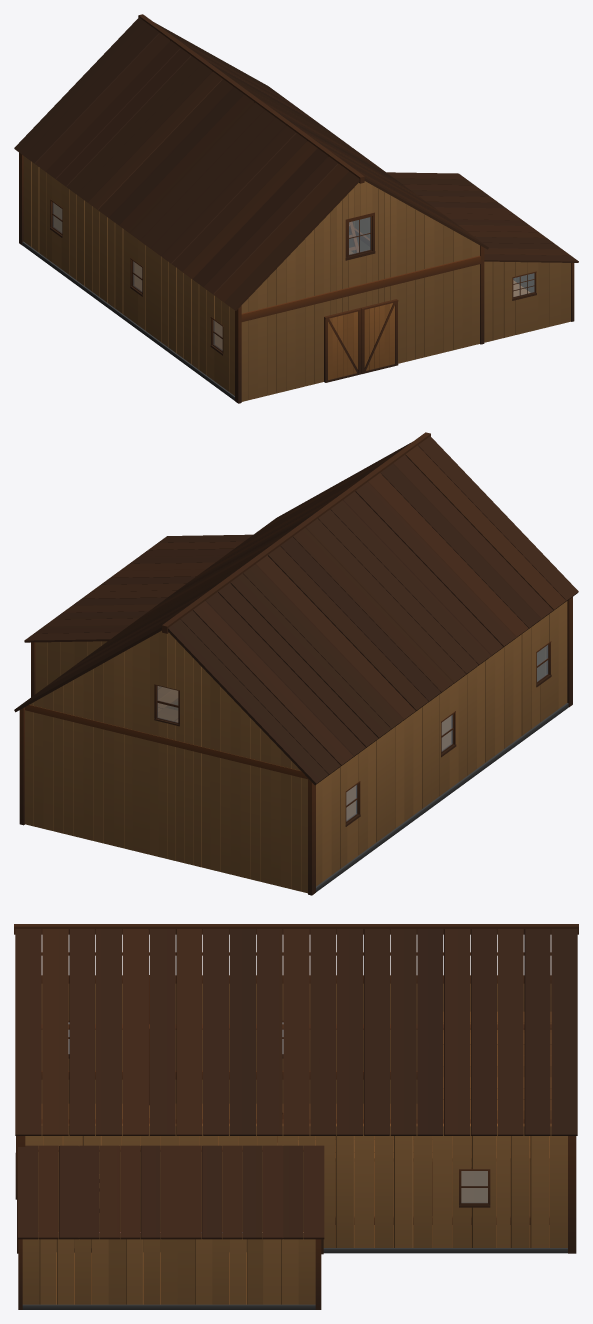
File: Bld_Shed_01.obj
3 renders of one model, top to bottom at view 1: azimuth 30°, elevation 25°; view 2: azimuth 150°, elevation 25°; view 3: azimuth 270°, elevation 25°, orthographic. The views are drawn at different scales.
Parts seen in each view (by area): view 1: Bld_Shed_01, Bld_Shed_Door_Left_01, Bld_Shed_Door_Right_01, Bld_Shed_Windows_01; view 2: Bld_Shed_01, Bld_Shed_Windows_01; view 3: Bld_Shed_01, Bld_Shed_Windows_01.
Part boxes in pixels (box(x1,y1,x2,y2)): Bld_Shed_01: box(14, 14, 578, 403); Bld_Shed_Door_Left_01: box(324, 308, 361, 382); Bld_Shed_Door_Right_01: box(361, 299, 398, 373); Bld_Shed_Windows_01: box(53, 202, 534, 350); Bld_Shed_01: box(14, 432, 578, 895); Bld_Shed_Windows_01: box(157, 645, 547, 821); Bld_Shed_01: box(14, 924, 578, 1309); Bld_Shed_Windows_01: box(68, 1023, 487, 1202).
Size of the model in its own units: 12.08 by 6.63 by 13.44.
2 materials, 1 textured.
